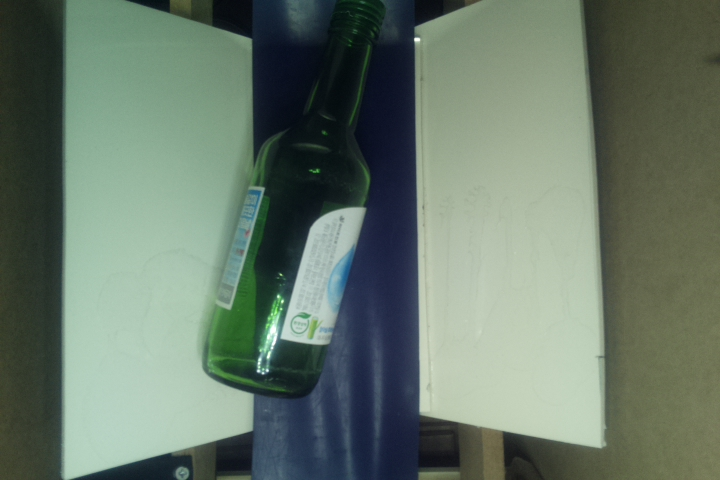soju: (203, 1, 395, 401)
